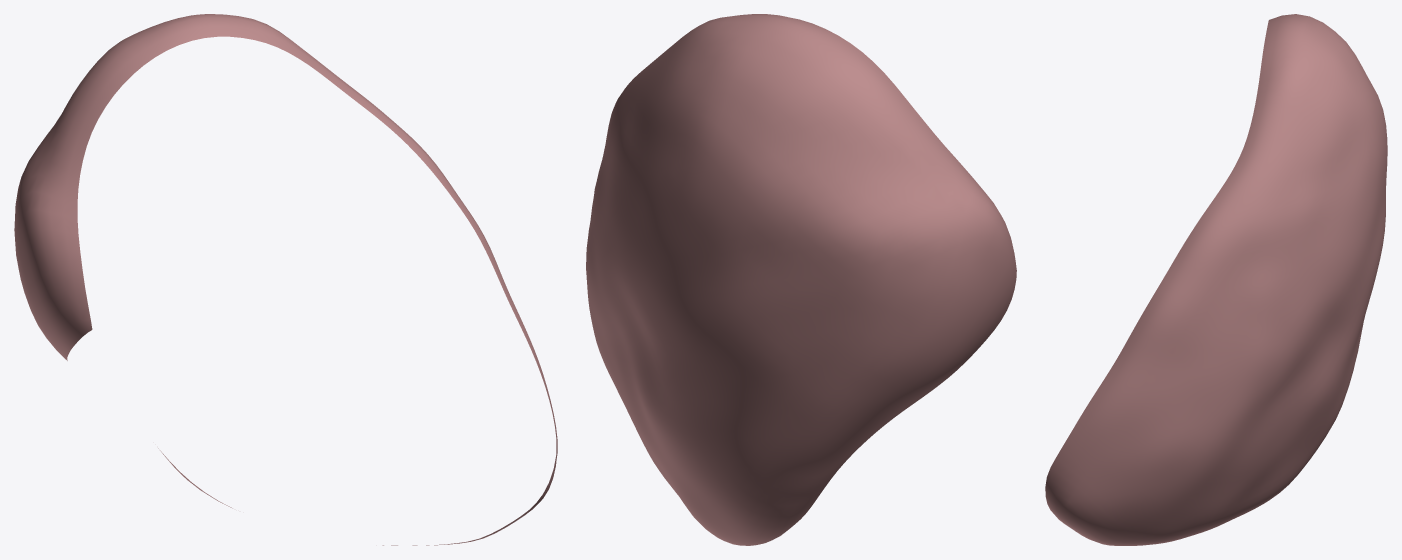
File: frau2-946.glb
3 views of the same model, side by side, from view 1: azimuth 30°, elevation 25°; view 2: azimuth 150°, elevation 25°; view 3: azimuth 270°, elevation 25° (orthographic). The views are drawn at different scales.
Parts seen in each view (by area): view 1: VH_F_diaphragmatic_surface_of_spleen; view 2: VH_F_diaphragmatic_surface_of_spleen; view 3: VH_F_diaphragmatic_surface_of_spleen.
Boxes of the visible parts, x1,y1,x2,y2 form: VH_F_diaphragmatic_surface_of_spleen: (14, 14, 557, 545); VH_F_diaphragmatic_surface_of_spleen: (586, 14, 1016, 545); VH_F_diaphragmatic_surface_of_spleen: (1045, 14, 1387, 545).
Size of the model in its own units: 0.0896 by 0.1023 by 0.0701.
